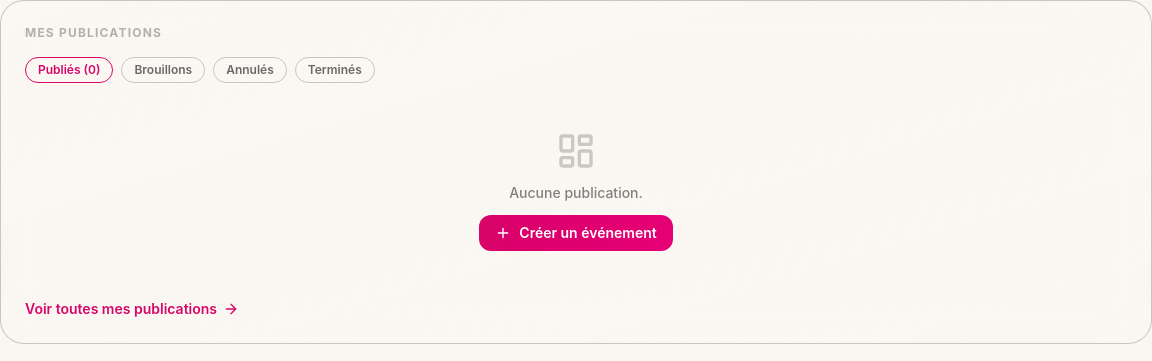
Scenario: MyPublicationsPreview › does not show the create CTA on the empty Annulés tab
Click the tab "Annulés" at [250, 70], box [213, 57, 287, 83]
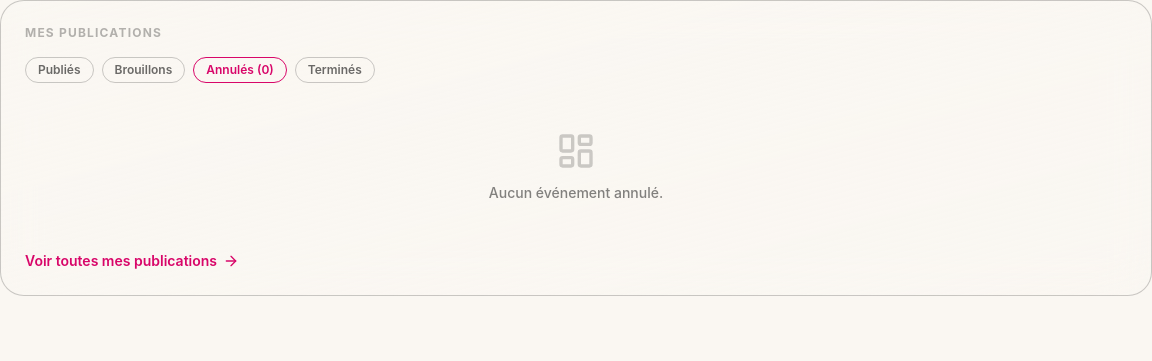
Result: the text "Aucun événement annulé." is shown at [489, 183, 663, 203]
Result: the link "Créer un événement" is gone
